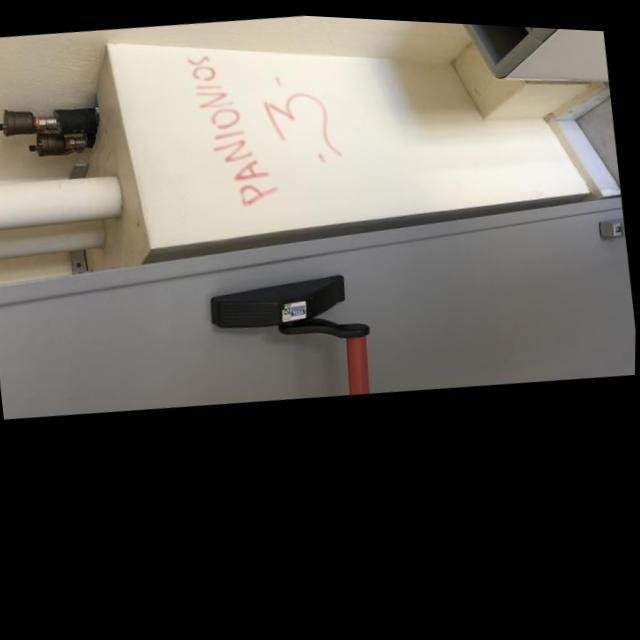-: (185, 38, 348, 212)
